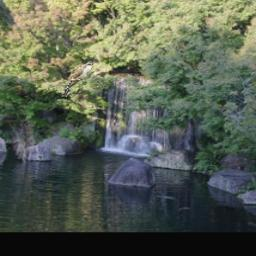Cuckoo: (62, 63, 95, 98)
